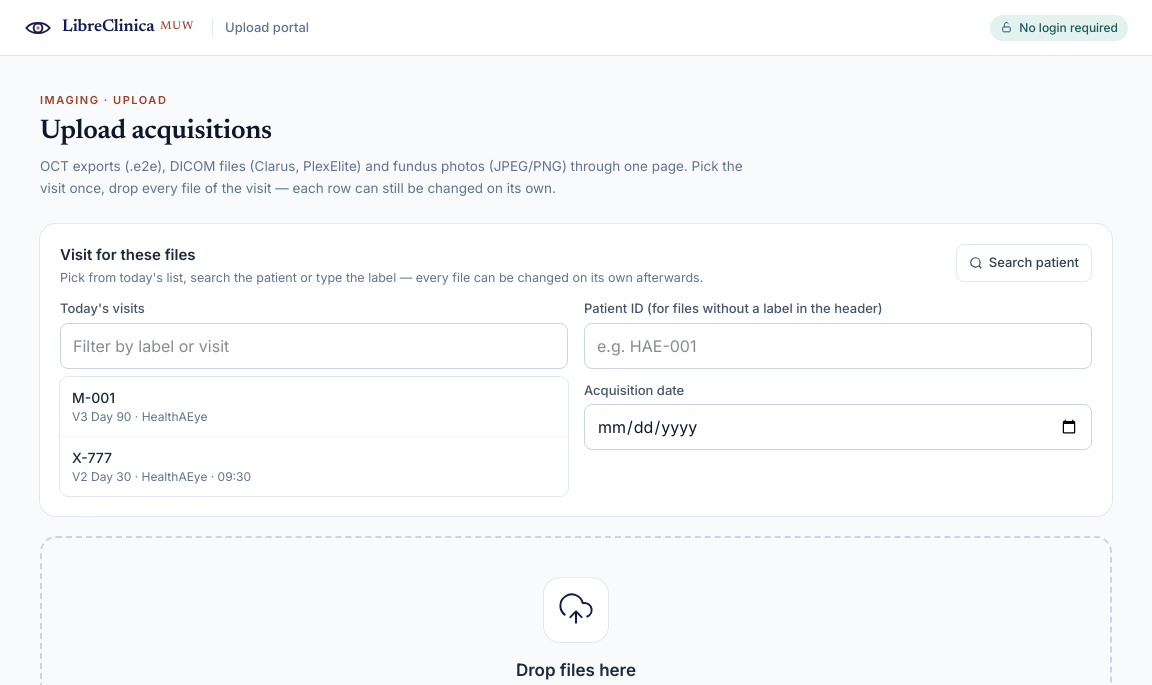
Test case: UploadPortalView › shows the day's visits when the institution has enabled them, and picks the batch from there
The image size is (1152, 685).
Check: the number of buttons with test id "visit-row" is 2, box [60,377,568,436]; [60,437,568,496]
Type "x-7" into the field with id "up-visit-filter" at coordinates (314, 346), box [60,323,568,369]
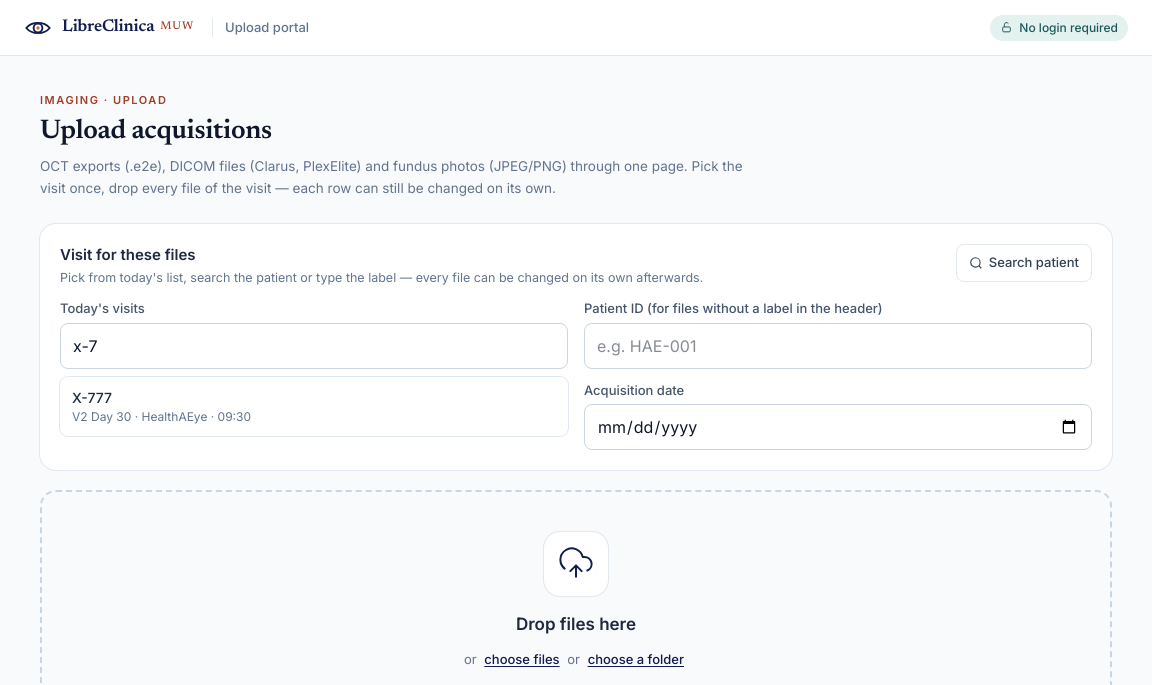
Check: the number of buttons with test id "visit-row" is 1
Click the button with test id "visit-row" at coordinates (92, 397), box [60,377,568,436]
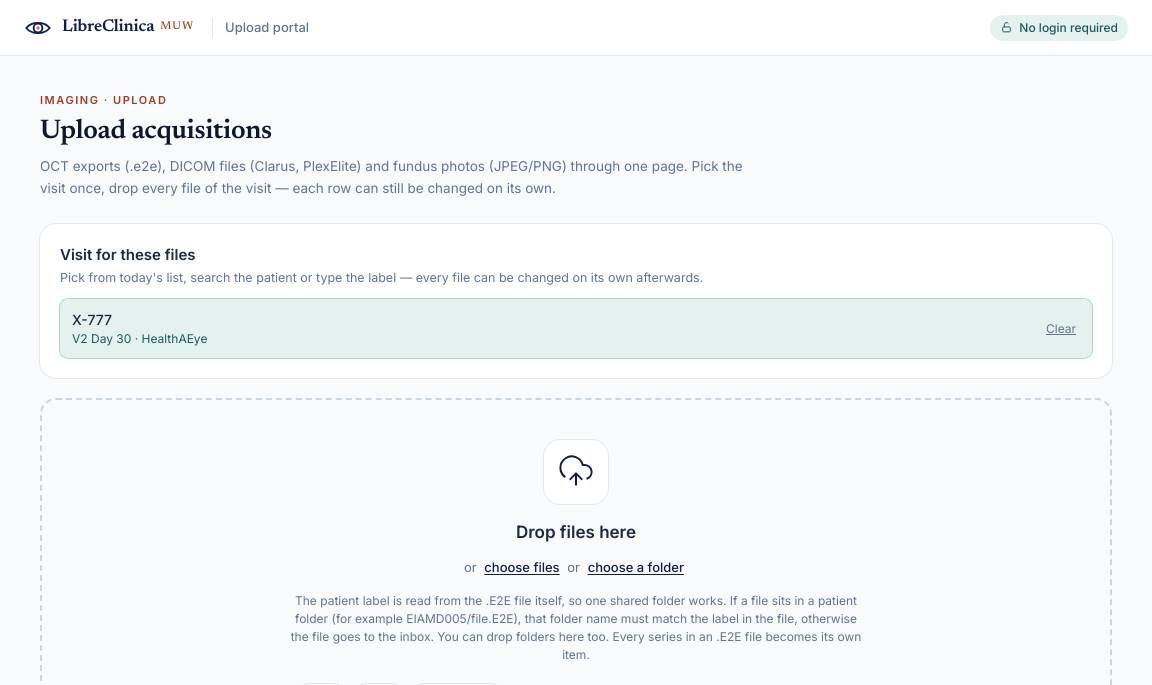
Check: the element with test id "batch-visit-chosen" shows "X-777", box [72,311,112,328]
